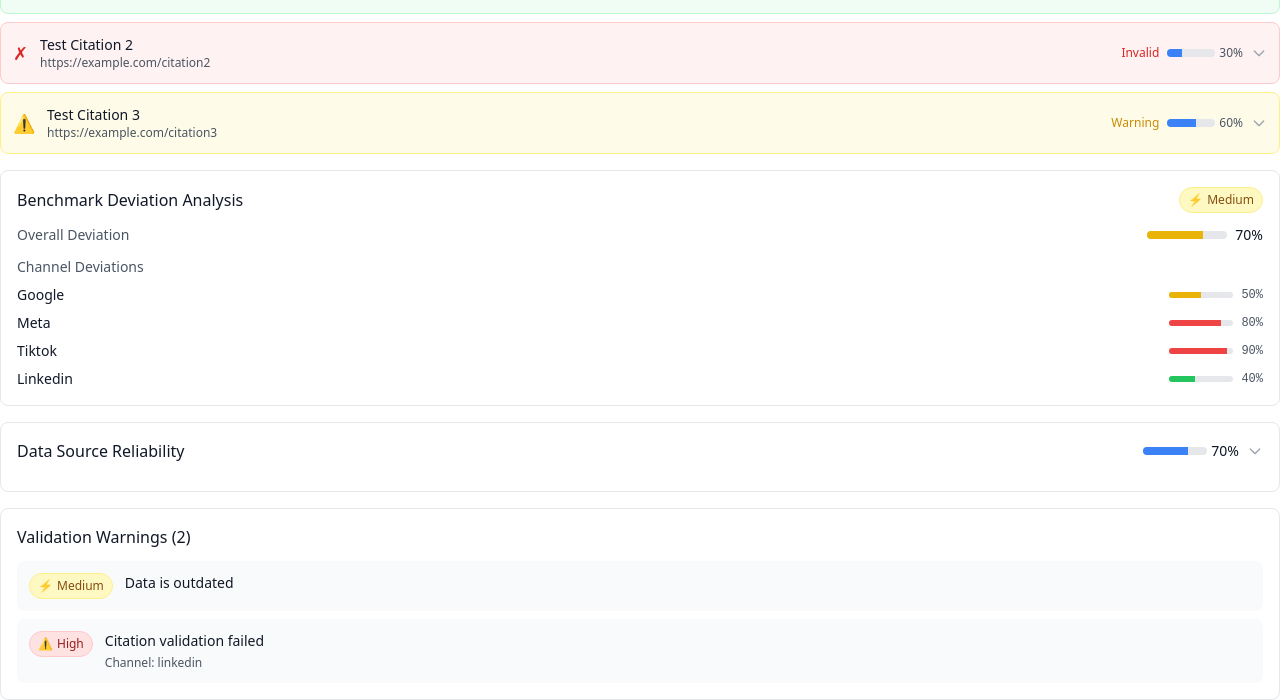
Test: DataQualityPanel › Data Source Reliability › expands to show source details when clicked
(page scrolled)
Click the button "Data Source Reliability 70%": (101, 451) [17,439,1263,463]
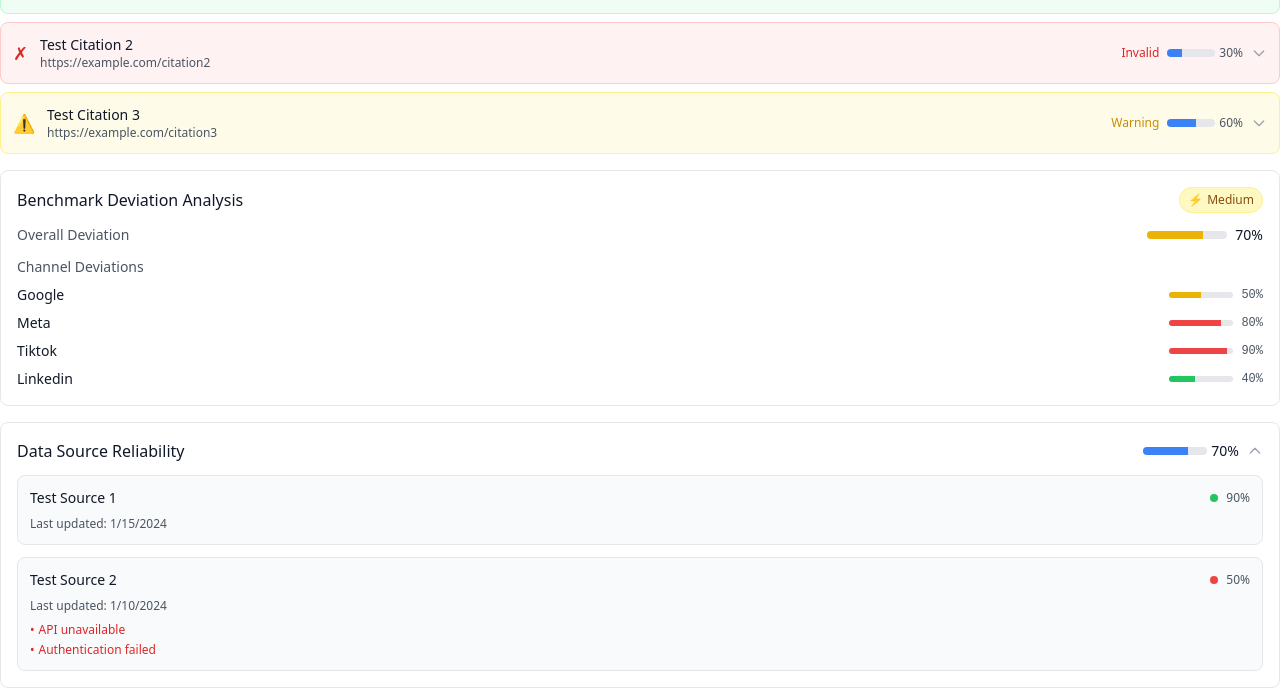
Expected: the text "Test Source 1" is shown, [30,488,117,508]
Expected: the text "Test Source 2" is shown, [30,570,117,590]
